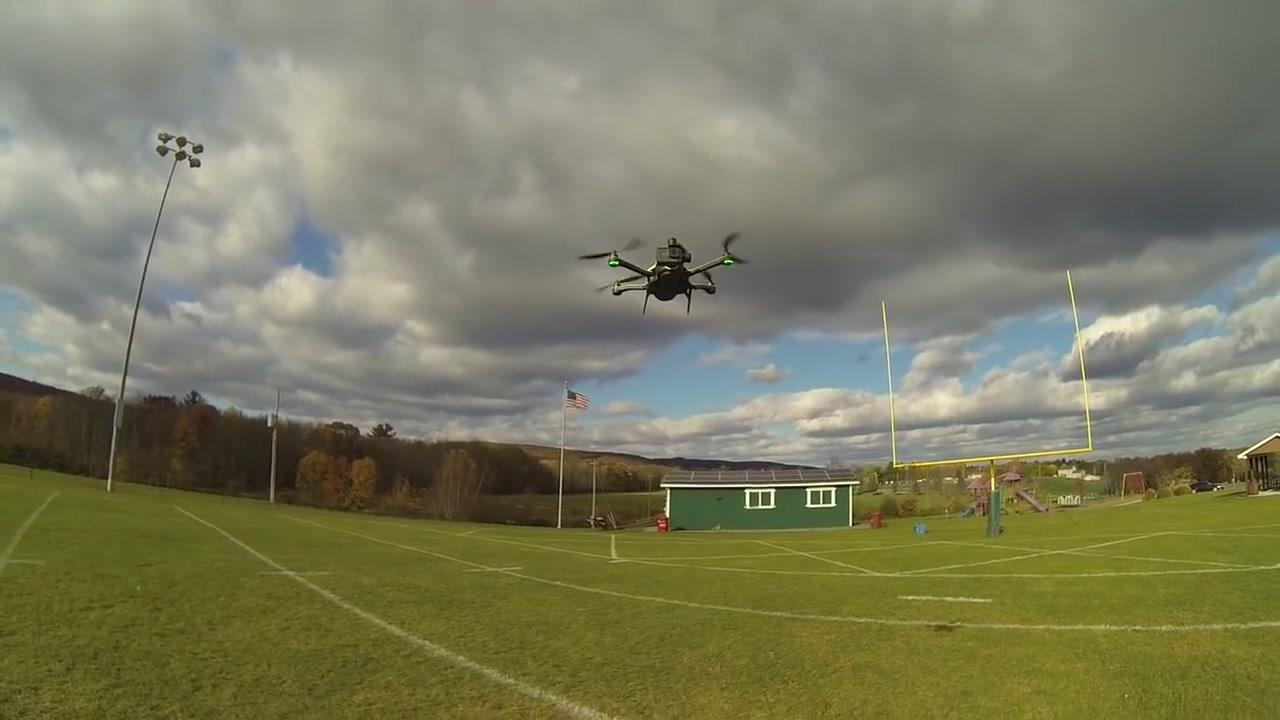UAV: (579, 233, 750, 316)
